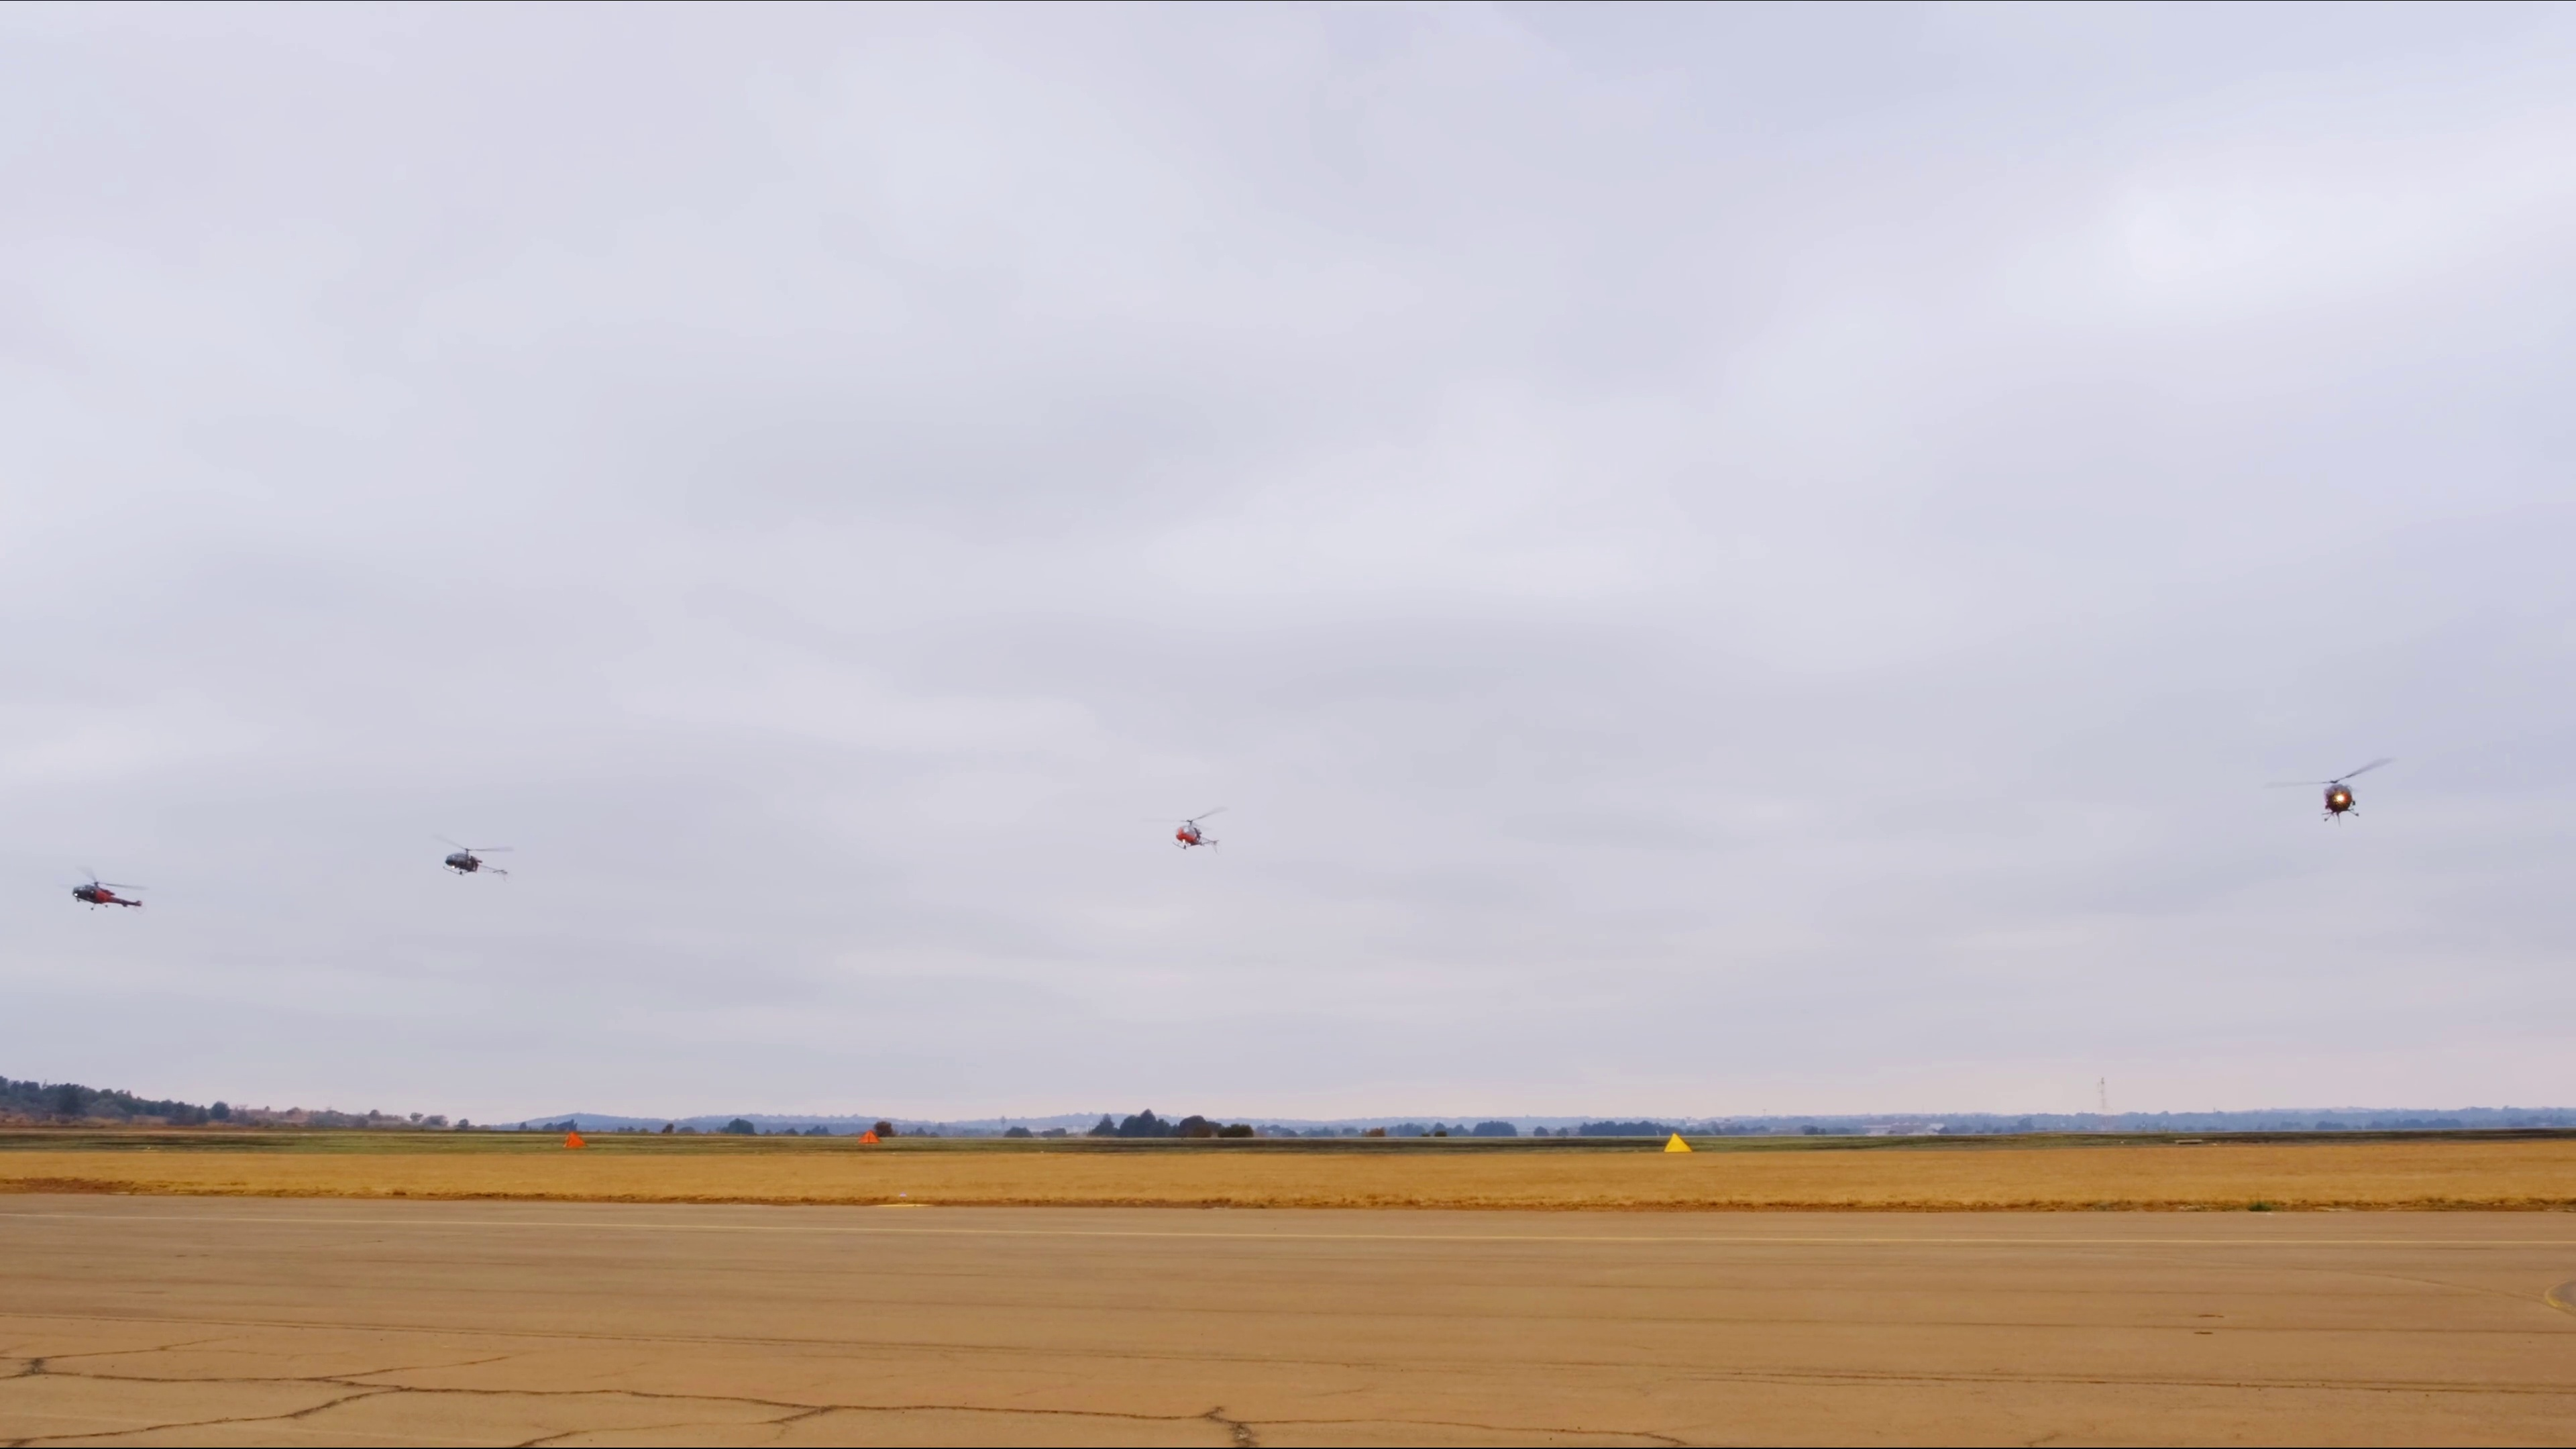heli: (2288, 763, 2397, 819), (69, 869, 147, 913), (1171, 801, 1228, 853), (439, 839, 511, 876)
